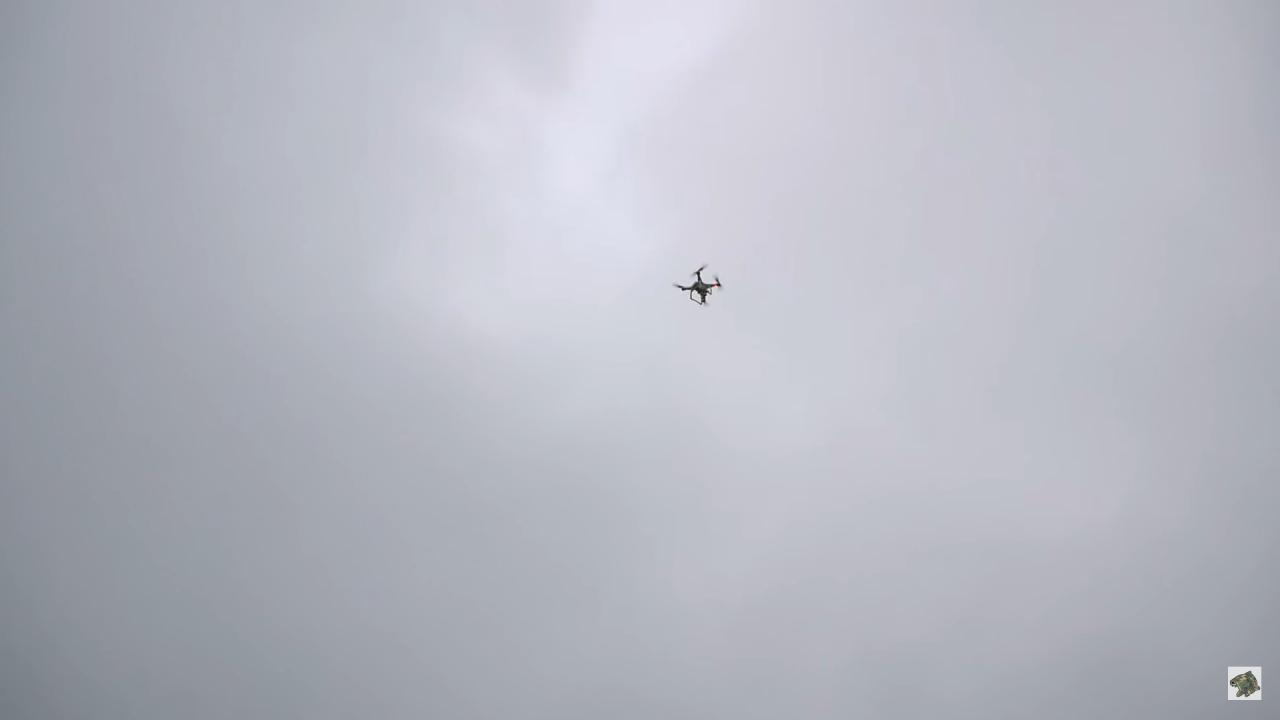Drone: (664, 258, 734, 313)
